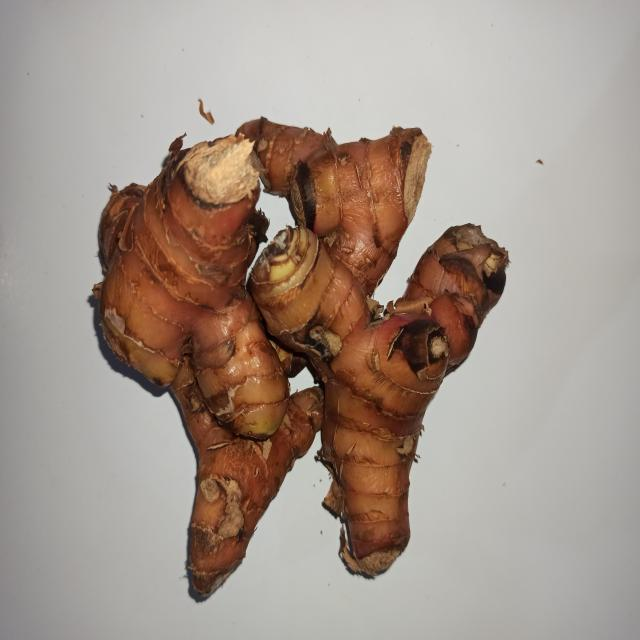ginger: (97, 105, 491, 586)
